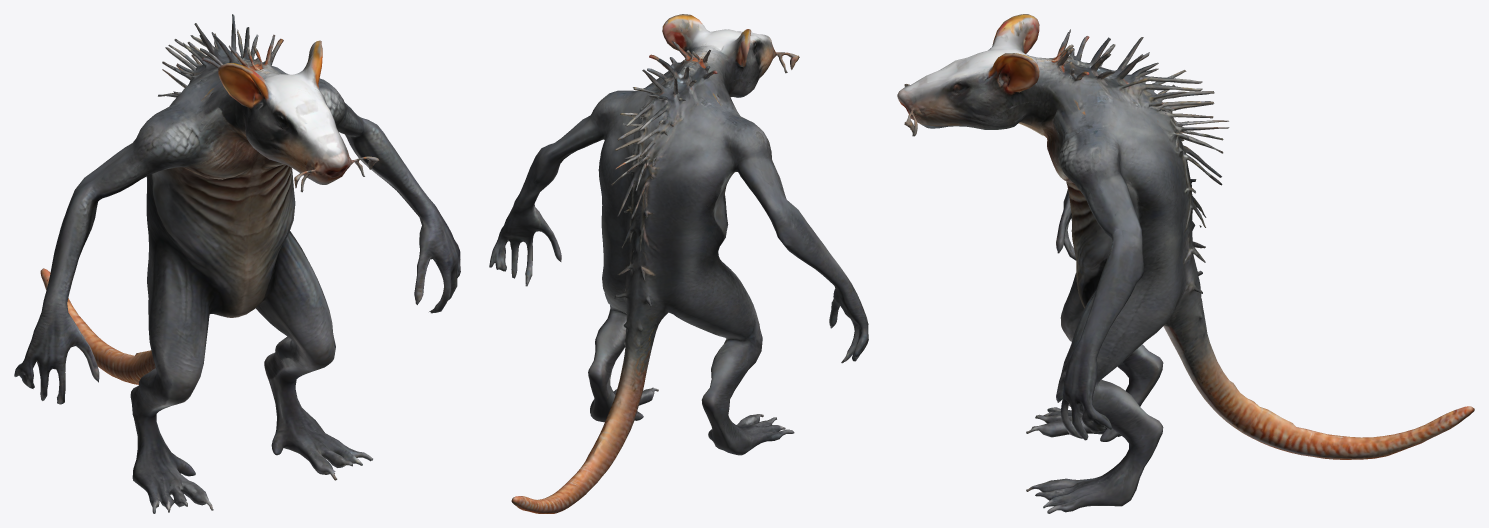
The model's file is Rat_Warrior.fbx.
3 renders of one model, left to right at view 1: azimuth 30°, elevation 25°; view 2: azimuth 150°, elevation 25°; view 3: azimuth 270°, elevation 25°, orthographic. The views are drawn at different scales.
Visible parts, largest first — view 1: Mesh1_Mesh1.029; view 2: Mesh1_Mesh1.029; view 3: Mesh1_Mesh1.029.
Boxes of the visible parts, x1,y1,x2,y2 form: Mesh1_Mesh1.029: (14, 14, 460, 513); Mesh1_Mesh1.029: (489, 14, 868, 513); Mesh1_Mesh1.029: (897, 14, 1474, 513).
Bounding box in the file's own units: 169 × 165 × 200.
Materials: 1 (1 with a texture image).
